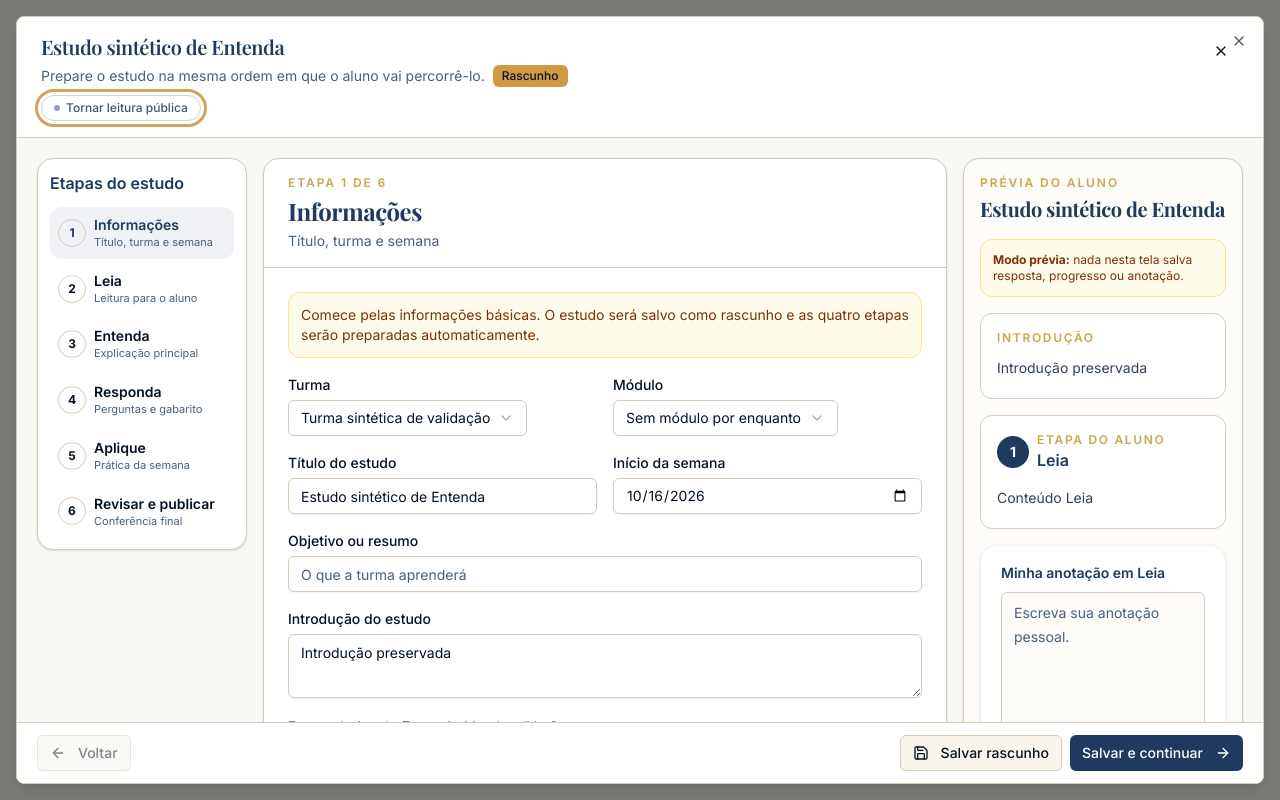
Fase 4 — Responda, Aplique e revisão, com API simulada › Salvar e continuar em Aplique aguarda confirmação antes da revisão e não publica
Click the button "5 Aplique Prática da semana" at (142, 456), box [50,430,234,482]
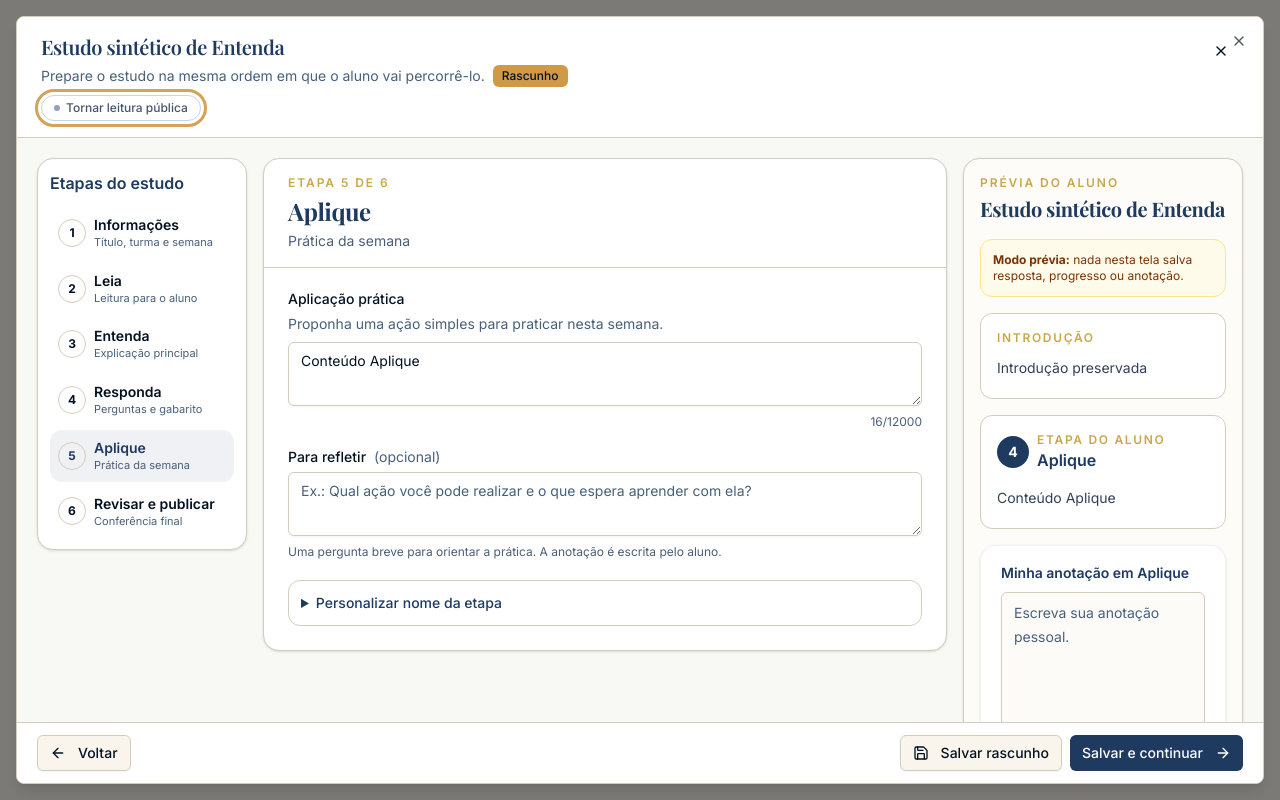
Click the button "Salvar e continuar" at (1156, 753), box [1070,735,1243,771]
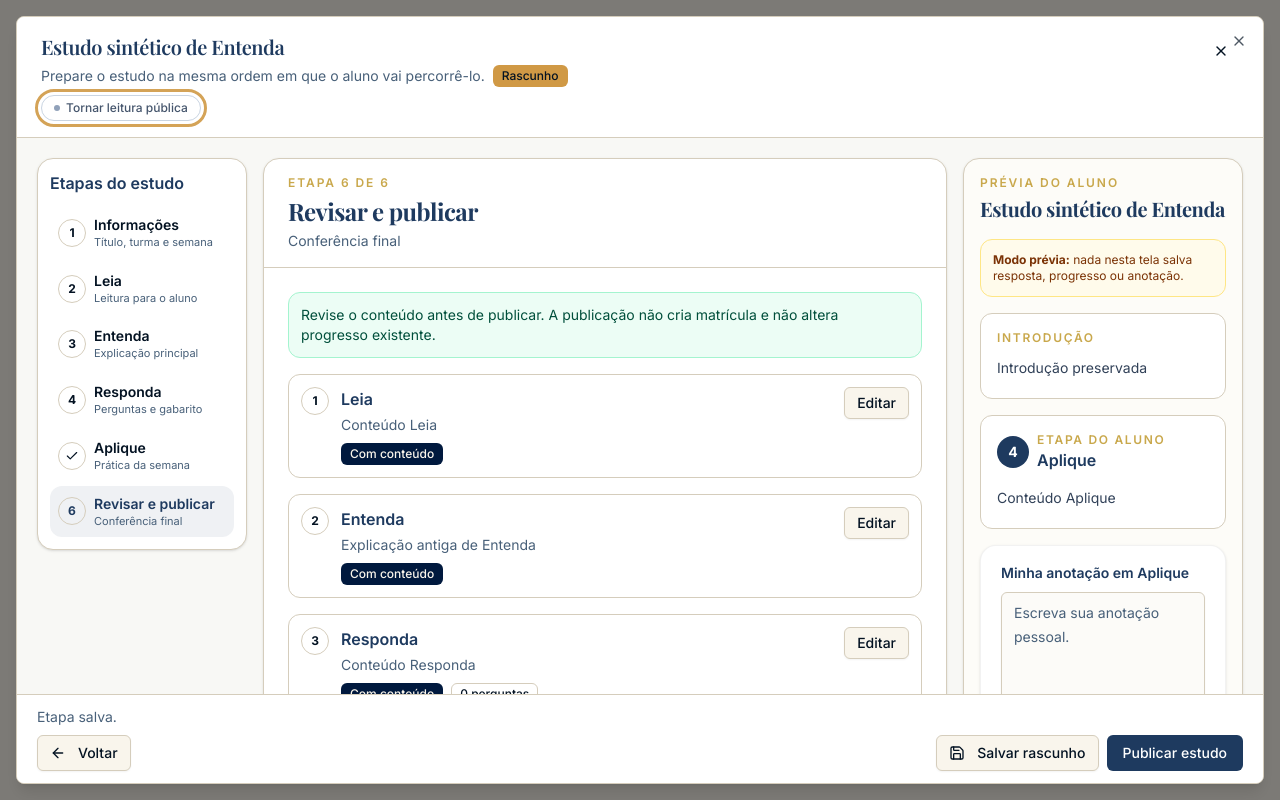
Expected: the text "Rascunho" is shown, [493,65,568,87]
Result: the heading "Revisar e publicar" is shown at [288,195,478,227]
